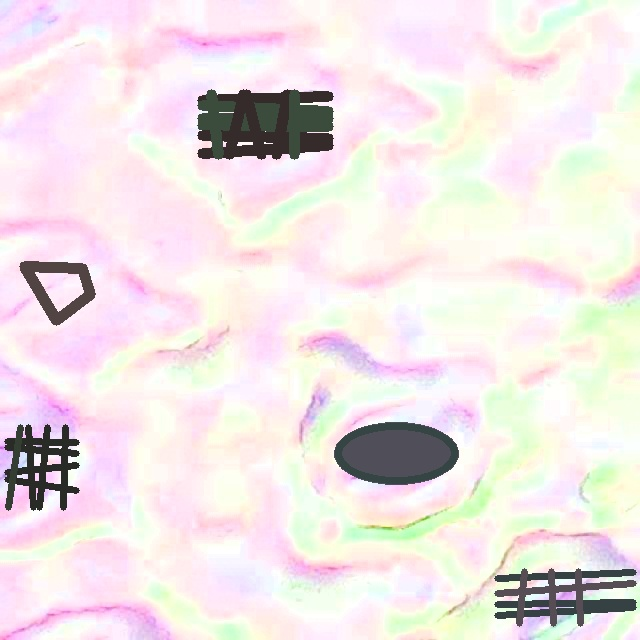close: (197, 90, 332, 158), (20, 264, 94, 325)
open: (494, 568, 636, 626), (333, 422, 458, 484), (4, 424, 79, 510)
